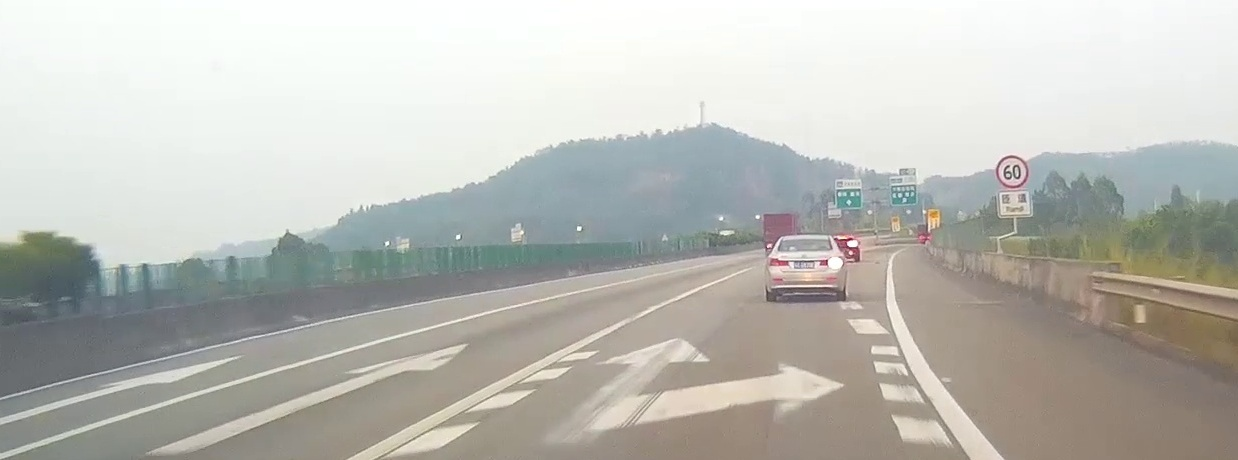L_light: (767, 257, 789, 267)
R_light: (819, 257, 843, 267)
T_light: (796, 239, 810, 244)
day-right: (765, 235, 845, 302)
